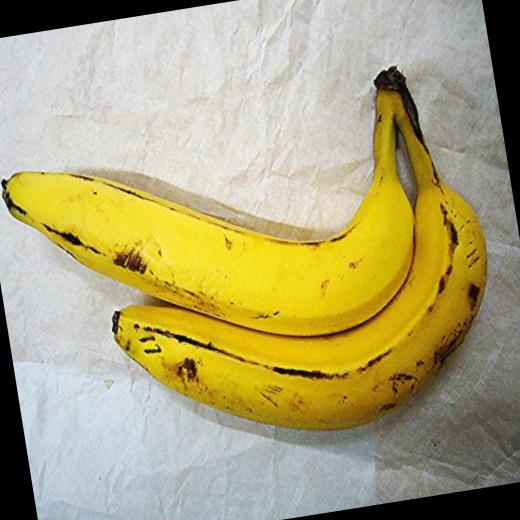Banana: (81, 75, 512, 463), (0, 67, 431, 382)
